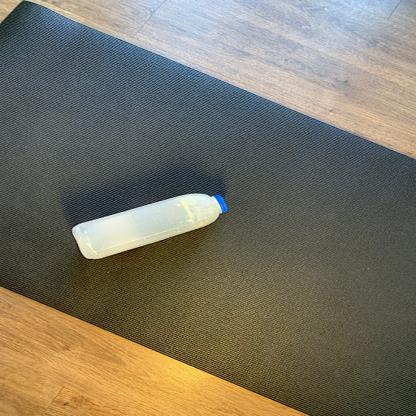trash: (70, 191, 230, 261)
